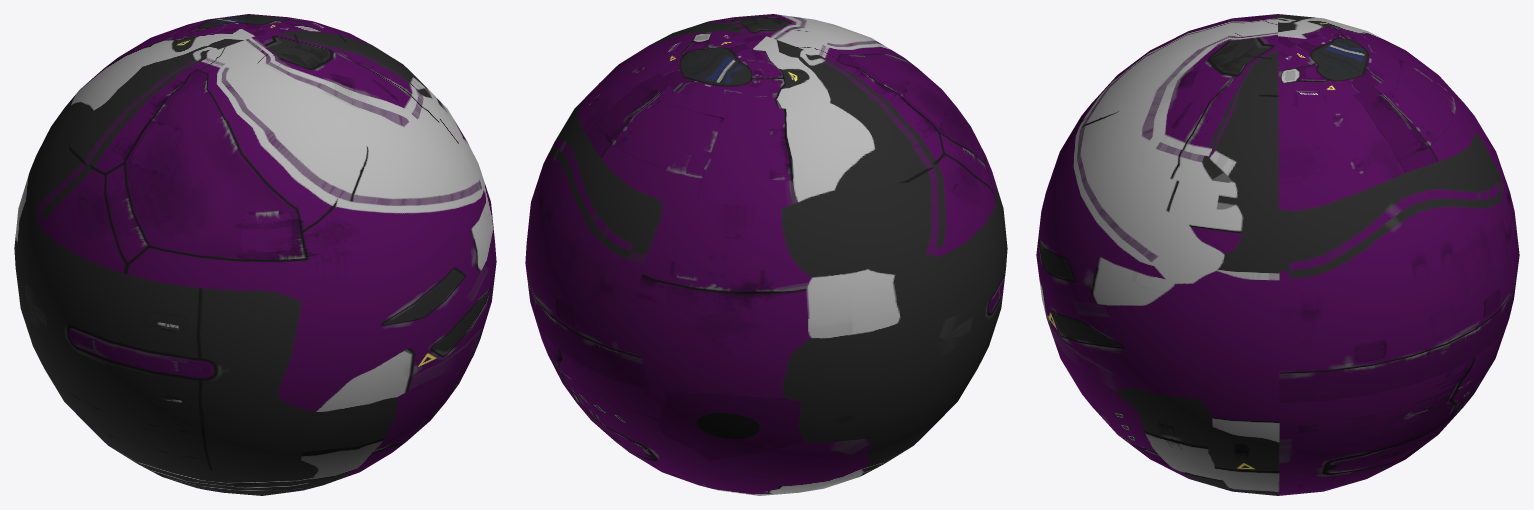
The model's file is AiEnemy.fbx.
3 views of the same model, side by side, from view 1: azimuth 30°, elevation 25°; view 2: azimuth 150°, elevation 25°; view 3: azimuth 270°, elevation 25° (orthographic).
Visible parts, largest first — view 1: AiEnemy; view 2: AiEnemy; view 3: AiEnemy.
Part boxes in pixels (bbox=[...]): AiEnemy: bbox=[14, 14, 496, 495]; AiEnemy: bbox=[525, 14, 1007, 495]; AiEnemy: bbox=[1036, 14, 1519, 495].
Size of the model in its own units: 1 by 1 by 1.
